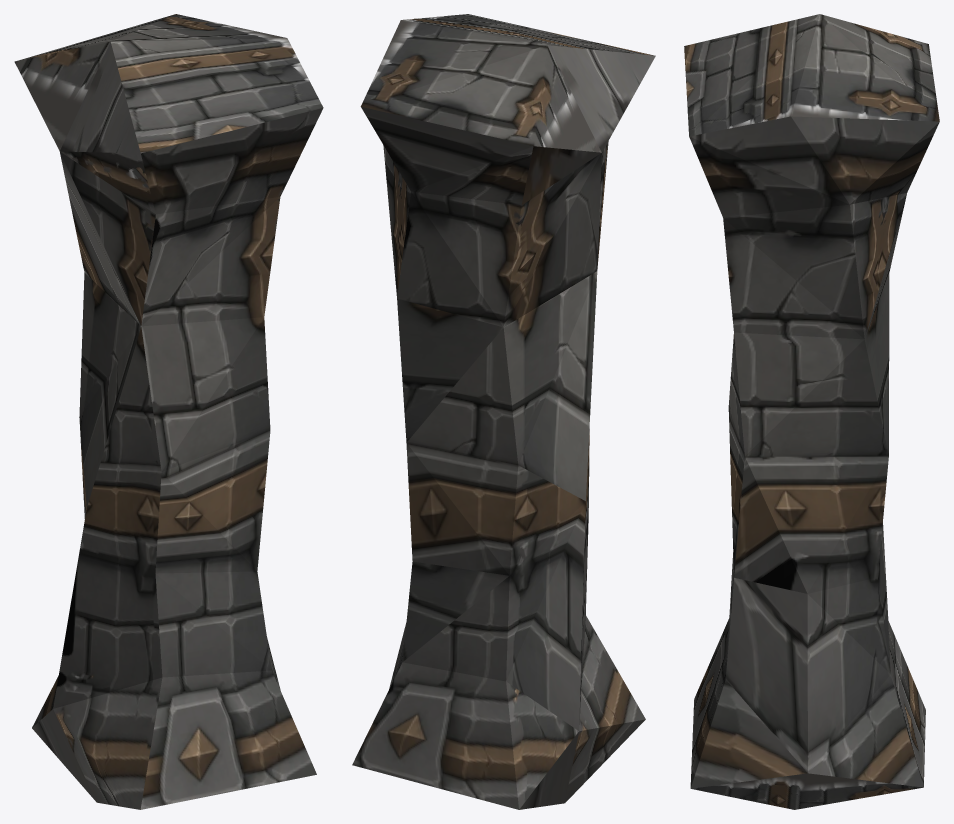
File: SM_Dungeon_Pillar_A_LOD3.glb
3 views of the same model, side by side, from view 1: azimuth 30°, elevation 25°; view 2: azimuth 150°, elevation 25°; view 3: azimuth 270°, elevation 25° (orthographic).
Visible parts, largest first — view 1: SM_Dungeon_Pillar_A_LOD3; view 2: SM_Dungeon_Pillar_A_LOD3; view 3: SM_Dungeon_Pillar_A_LOD3.
Part boxes in pixels (left/top/right/bottom): SM_Dungeon_Pillar_A_LOD3: left=14, top=14, right=323, bottom=809; SM_Dungeon_Pillar_A_LOD3: left=352, top=14, right=655, bottom=809; SM_Dungeon_Pillar_A_LOD3: left=684, top=14, right=939, bottom=809.
Bounding box in the file's own units: 0.9131 × 3.04 × 0.943.
Materials: 1 (1 with a texture image).
